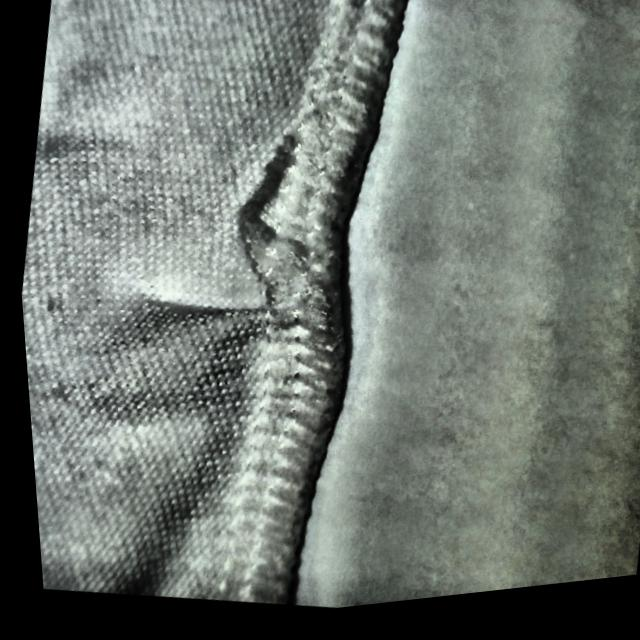seam: (126, 145, 366, 394)
